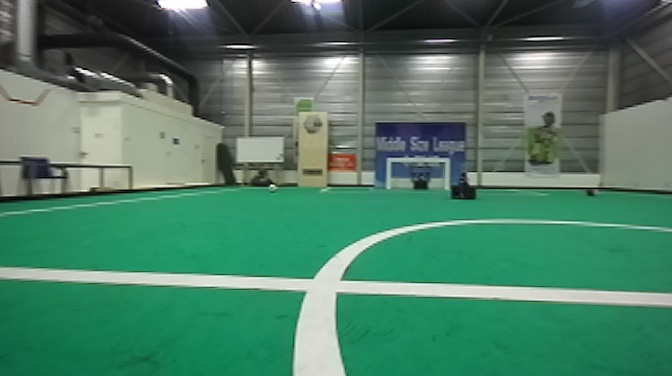ball: (586, 184, 599, 197), (267, 183, 278, 194)
goal: (386, 156, 451, 191)
robot: (448, 162, 479, 200), (406, 163, 436, 191)
